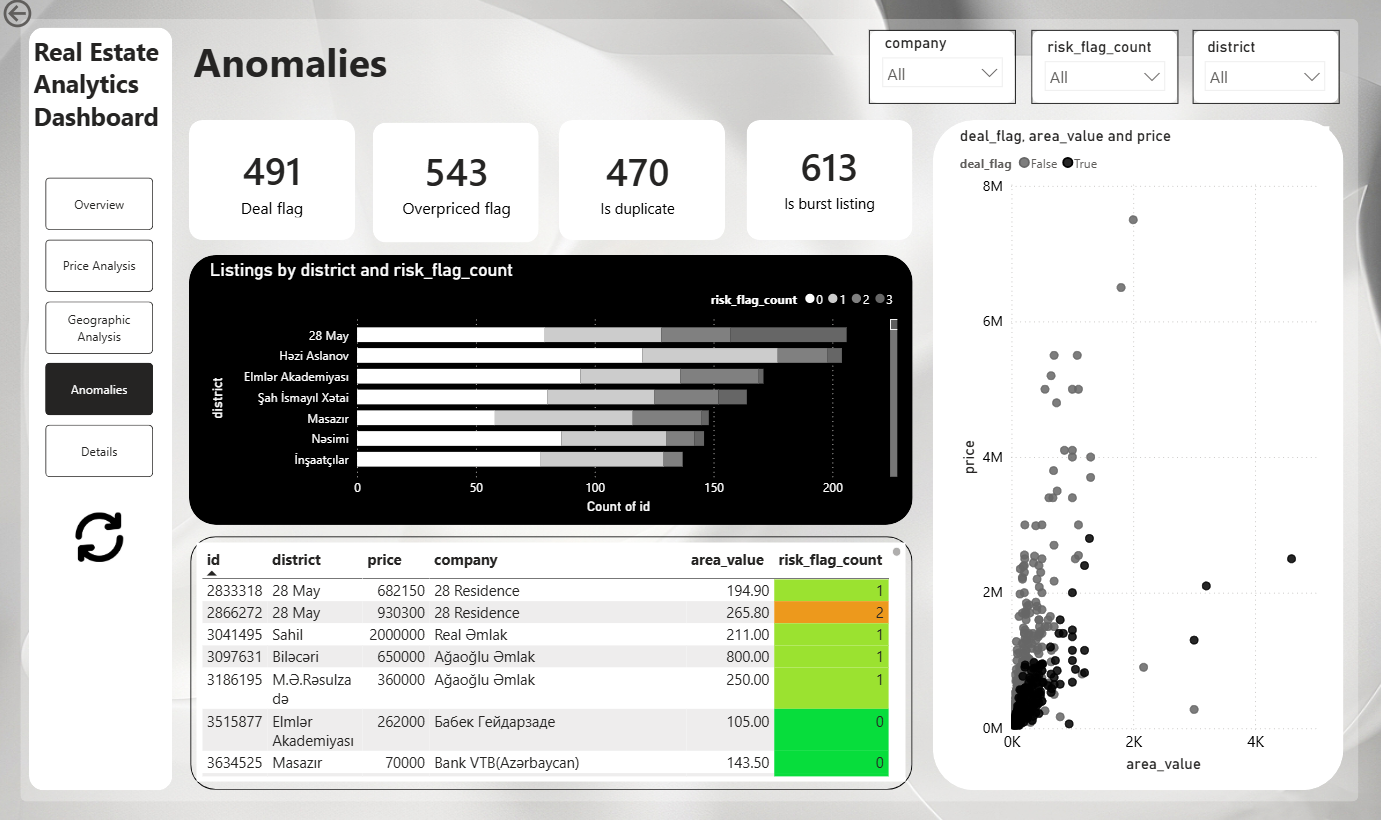

The dashboard page shown, as its layout file describes it:
{"tool":"powerbi","page":{"name":"Anomalies","canvas":[1500,900],"ordinal":3},"visuals":[{"type":"shape","box":[23.2,25.9,1451.2,848.9],"z":0},{"type":"shape","box":[405.2,138.3,180.1,130.3],"z":1000},{"type":"shape","box":[32.7,35.4,155.3,827.1],"z":2000},{"type":"textbox","box":[205.4,38,223.7,68.9],"z":3000},{"type":"shape","box":[607.8,135.1,180.1,130.3],"z":4000},{"type":"shape","box":[810.5,135.1,180.1,130.3],"z":5000},{"type":"shape","box":[205.8,135.1,180.1,130.3],"z":6000},{"type":"cardVisual","fields":{"Data":["CountNonNull(listings_enriched.overpriced_flag)"]},"box":[405.3,142.1,182.9,119.6],"z":7000},{"type":"cardVisual","fields":{"Data":["CountNonNull(listings_enriched.is_duplicate)"]},"box":[600.8,142.1,184.3,119.6],"z":8000},{"type":"cardVisual","fields":{"Data":["CountNonNull(listings_enriched.is_burst_listing)"]},"box":[810.5,130.9,180.1,130.9],"z":9000},{"type":"shape","box":[207.4,586.9,783.1,275],"z":10000},{"type":"shape","box":[1293.8,37.8,159,80.2],"z":11000},{"type":"shape","box":[1013.1,135.1,445.4,726.8],"z":12000},{"type":"shape","box":[1119.3,37.8,159,80.2],"z":13000},{"type":"shape","box":[943.4,37.8,159,80.2],"z":14000},{"type":"shape","box":[205.8,281.4,784.7,292.7],"z":15000},{"type":"slicer","fields":{"Values":["listings_enriched.district"]},"box":[1297.7,40.2,151.2,77.2],"z":16000},{"type":"slicer","fields":{"Values":["listings_enriched.risk_flag_count"]},"box":[1124,40.2,151.2,77.2],"z":17000},{"type":"slicer","fields":{"Values":["listings.company"]},"box":[947.2,37,151.2,77.2],"z":18000},{"type":"textbox","box":[32.4,38,173.1,128],"z":19000},{"type":"cardVisual","fields":{"Data":["CountNonNull(listings_enriched.deal_flag)"]},"box":[205.4,140.7,180.1,121],"z":20000},{"type":"tableEx","fields":{"Values":["listings_enriched.id","listings_enriched.district","listings_enriched.price","listings_enriched.company","listings_enriched.area_value","listings_enriched.risk_flag_count"]},"box":[214.2,593.4,768.7,258.9],"z":21000},{"type":"actionButton","box":[0,0,100,40],"z":22000},{"type":"scatterChart","fields":{"X":["listings_enriched.area_value"],"Y":["listings_enriched.price"],"Series":["listings_enriched.deal_flag"]},"box":[1037.1,142.1,405.3,705],"z":23000},{"type":"barChart","title":"Listings by  district and risk_flag_count","fields":{"Category":["listings_enriched.district"],"Y":["CountNonNull(listings_enriched.id)"],"Series":["listings_enriched.risk_flag_count"]},"box":[223.5,287.8,755.8,279.8],"z":24000},{"type":"pageNavigator","box":[50.4,197.6,117.2,329.8],"z":25000},{"type":"image","box":[73.4,560.9,71.7,53.8],"z":26000}]}

Visuals, with their boxes on the page's 1500x900 design canvas (x1, y1, x2, y2). These are canvas units, not pixel positions in the 1381x820 screenshot, which may show the page scaled, cropped or inside an application window:
shape: [left=23, top=26, right=1474, bottom=875]
shape: [left=405, top=138, right=585, bottom=269]
shape: [left=33, top=35, right=188, bottom=862]
textbox: [left=205, top=38, right=429, bottom=107]
shape: [left=608, top=135, right=788, bottom=265]
shape: [left=810, top=135, right=991, bottom=265]
shape: [left=206, top=135, right=386, bottom=265]
cardVisual - CountNonNull(listings_enriched.overpriced_flag): [left=405, top=142, right=588, bottom=262]
cardVisual - CountNonNull(listings_enriched.is_duplicate): [left=601, top=142, right=785, bottom=262]
cardVisual - CountNonNull(listings_enriched.is_burst_listing): [left=810, top=131, right=991, bottom=262]
shape: [left=207, top=587, right=990, bottom=862]
shape: [left=1294, top=38, right=1453, bottom=118]
shape: [left=1013, top=135, right=1458, bottom=862]
shape: [left=1119, top=38, right=1278, bottom=118]
shape: [left=943, top=38, right=1102, bottom=118]
shape: [left=206, top=281, right=990, bottom=574]
slicer - listings_enriched.district: [left=1298, top=40, right=1449, bottom=117]
slicer - listings_enriched.risk_flag_count: [left=1124, top=40, right=1275, bottom=117]
slicer - listings.company: [left=947, top=37, right=1098, bottom=114]
textbox: [left=32, top=38, right=206, bottom=166]
cardVisual - CountNonNull(listings_enriched.deal_flag): [left=205, top=141, right=386, bottom=262]
tableEx - listings_enriched.id x listings_enriched.district: [left=214, top=593, right=983, bottom=852]
actionButton: [left=0, top=0, right=100, bottom=40]
scatterChart - listings_enriched.area_value x listings_enriched.price: [left=1037, top=142, right=1442, bottom=847]
"Listings by  district and risk_flag_count" barChart: [left=224, top=288, right=979, bottom=568]
pageNavigator: [left=50, top=198, right=168, bottom=527]
image: [left=73, top=561, right=145, bottom=615]
